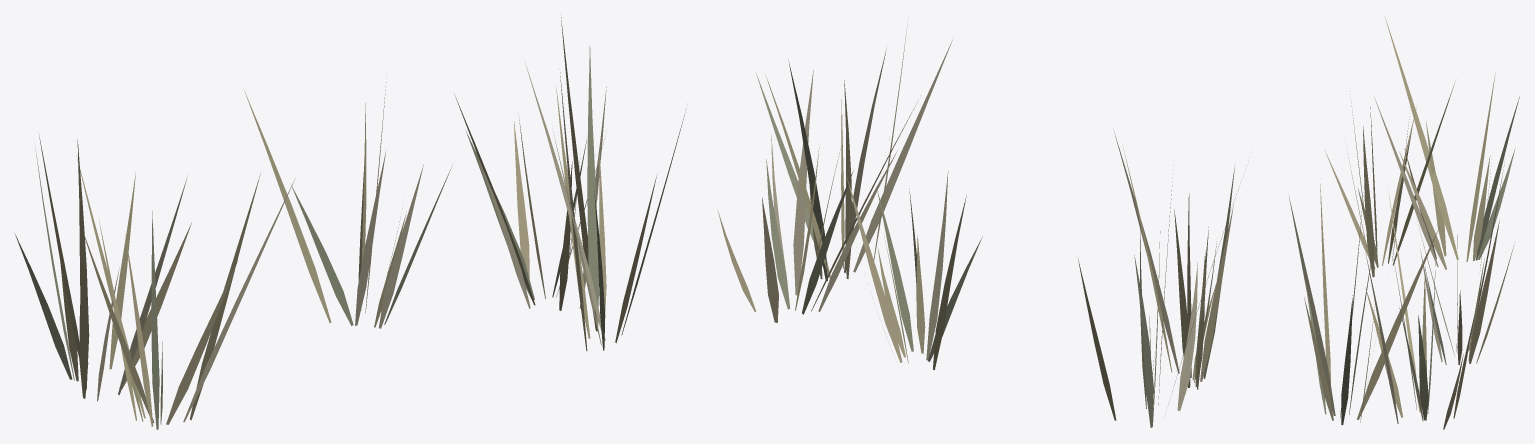
The model's file is E07_VEG01_CAPIM_PALHA_MEDIO_R3Z2_REV04.glb.
3 views of the same model, side by side, from view 1: azimuth 30°, elevation 25°; view 2: azimuth 150°, elevation 25°; view 3: azimuth 270°, elevation 25° (orthographic). The views are drawn at different scales.
Parts seen in each view (by area): view 1: world; view 2: world; view 3: world.
Part boxes in pixels (left/top/right/bottom): world: left=14, top=14, right=686, bottom=429; world: left=717, top=21, right=1238, bottom=427; world: left=1288, top=16, right=1519, bottom=429.
Bounding box in the file's own units: 0.9455 × 0.4665 × 0.4358.
